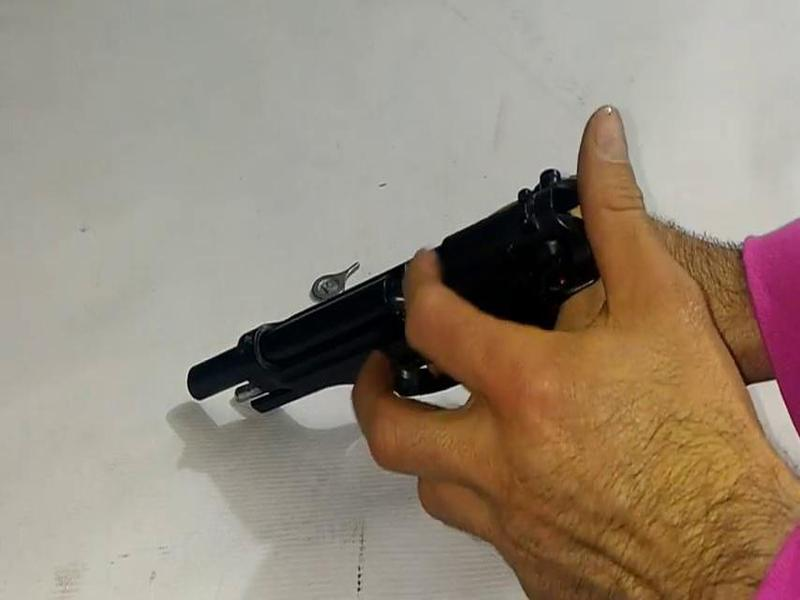Pistola: (143, 148, 650, 499)
